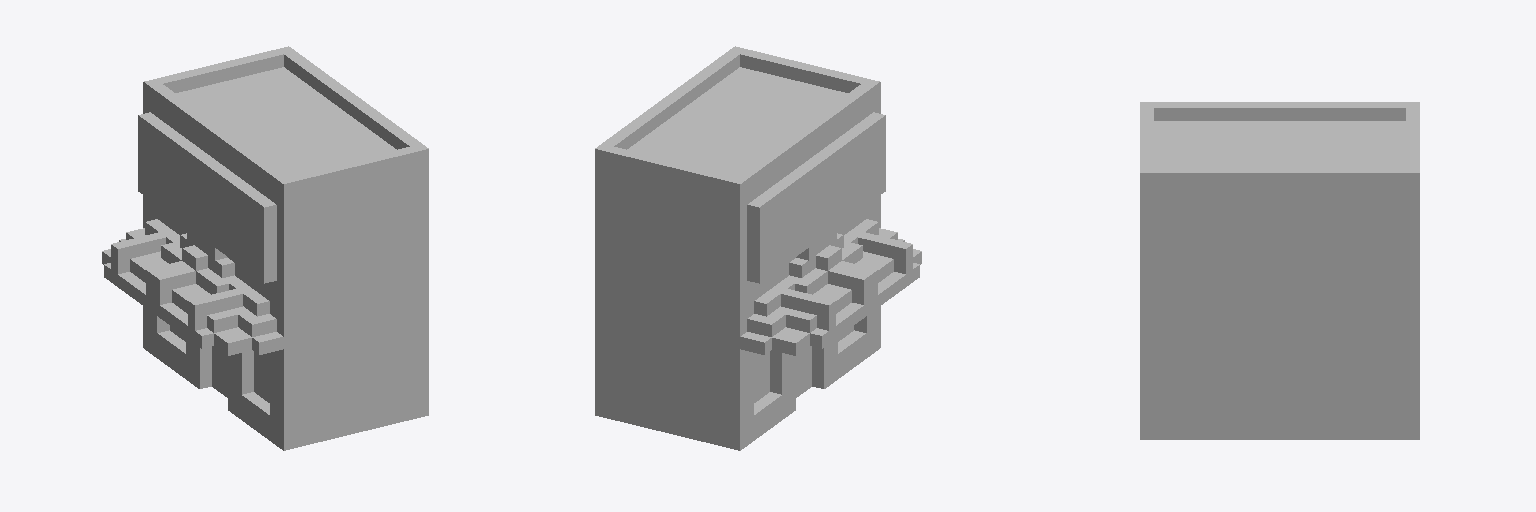
File: house2.obj
3 views of the same model, side by side, from view 1: azimuth 30°, elevation 25°; view 2: azimuth 150°, elevation 25°; view 3: azimuth 270°, elevation 25° (orthographic).
Visible parts, largest first — view 1: object 1; view 2: object 1; view 3: object 1.
Part boxes in pixels (x1,y1,x2,y2): object 1: (102, 46, 428, 450); object 1: (595, 46, 921, 450); object 1: (1140, 102, 1419, 439).
Size of the model in its own units: 1.7 by 2.1 by 2.